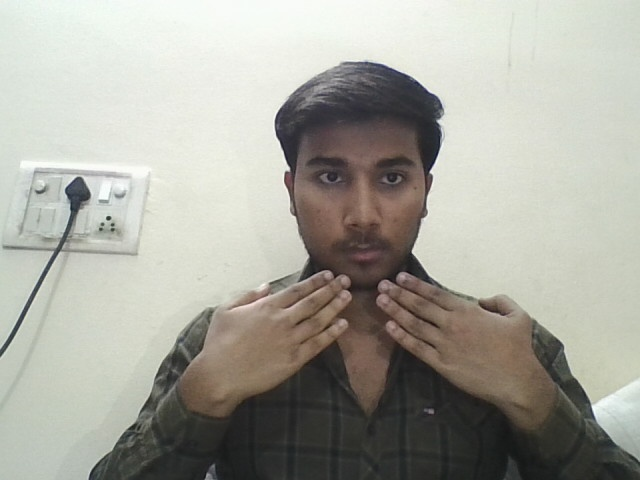thanks: (138, 243, 581, 422)
